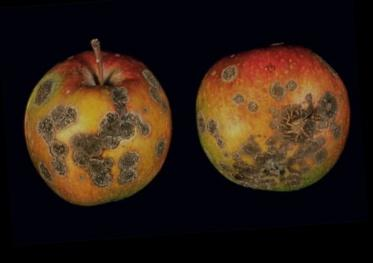rotten apple: (192, 35, 352, 195), (20, 46, 173, 207)
